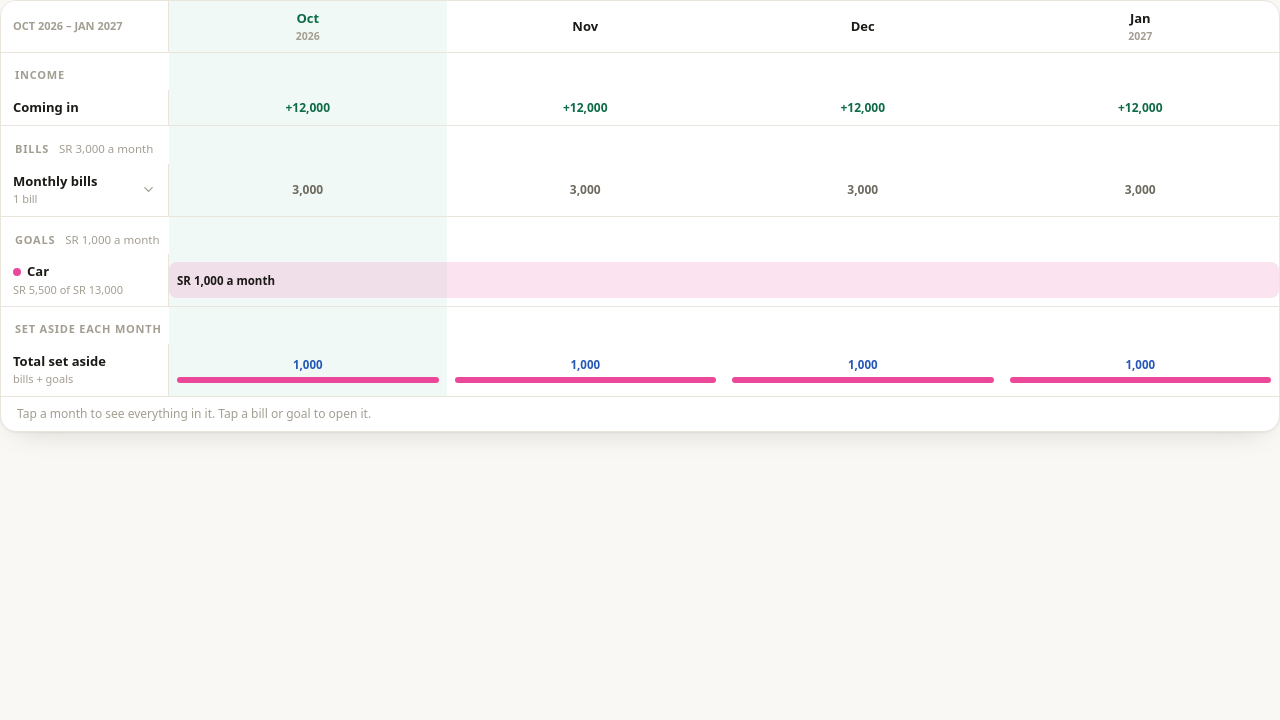
year lanes › closes the month popover from its close button
Click the button "Nov" at (585,27), box [446,1,724,52]
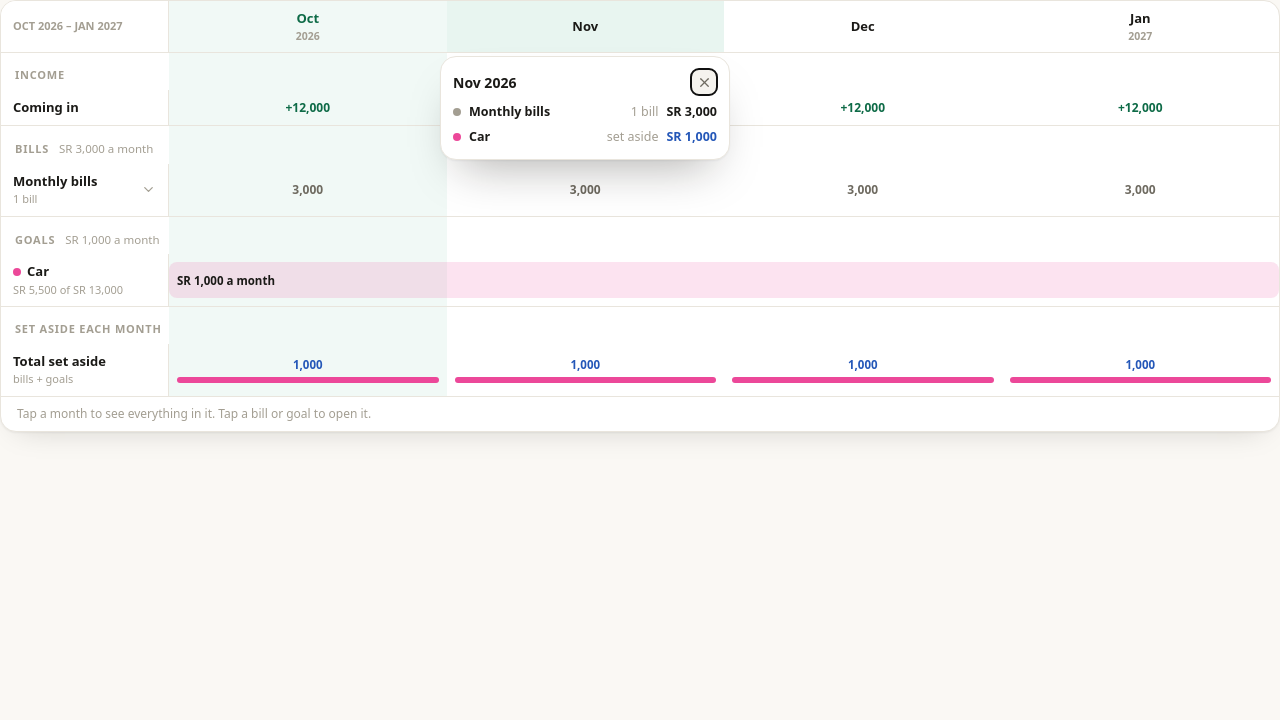
Click the button named "Close" at (704,82), box [691,69,717,95]
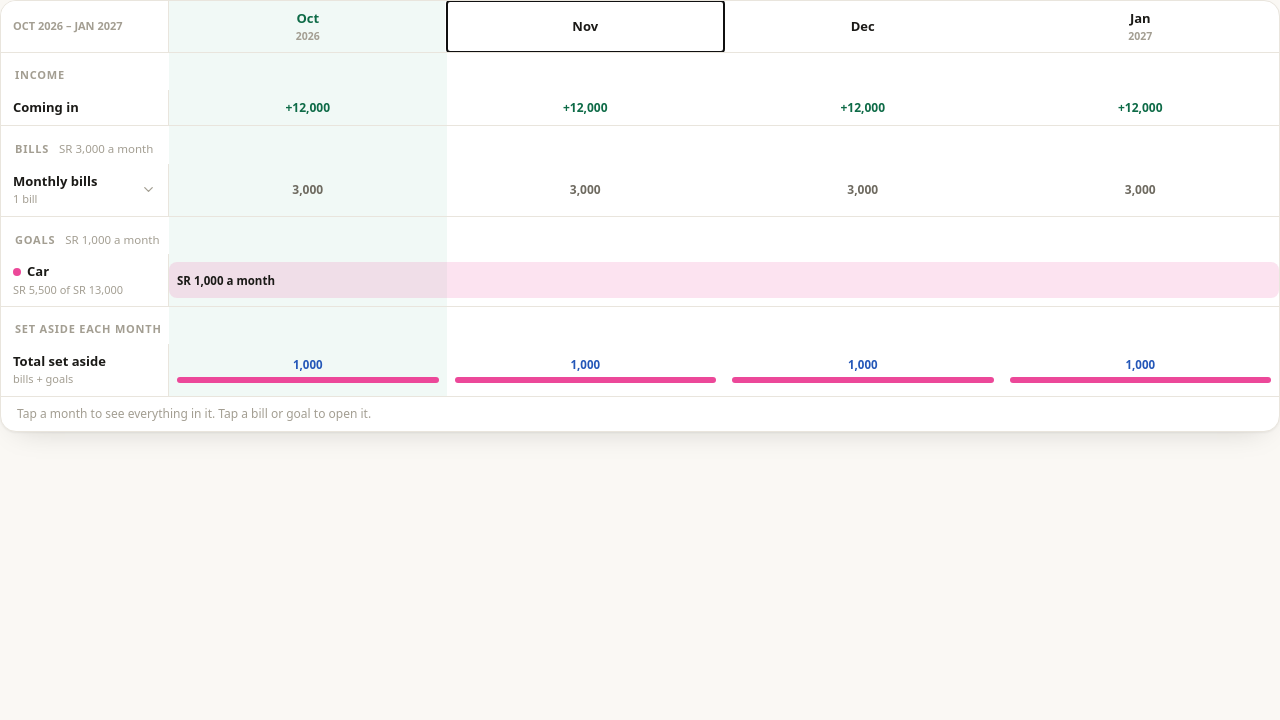
Result: the text "Nov 2026" is gone
